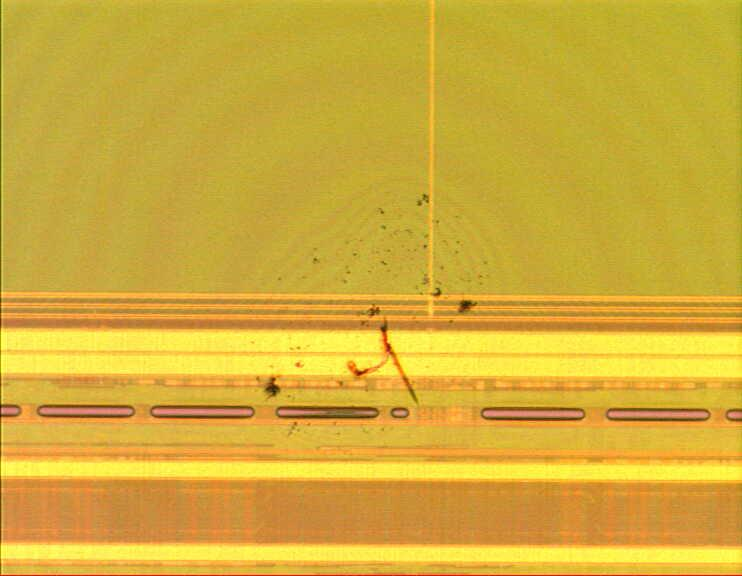PIQ PARTICLE: (243, 193, 495, 444)
